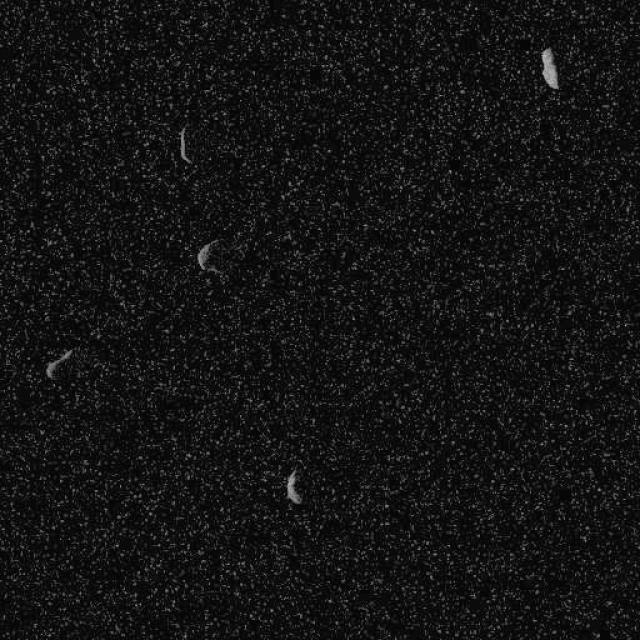D2: (196, 237, 222, 275), (44, 348, 74, 380), (539, 45, 559, 89), (285, 467, 303, 505), (178, 125, 192, 164)
